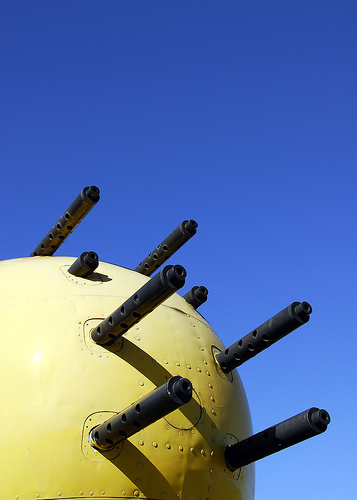rifle: (85, 361, 196, 461), (208, 289, 319, 389), (222, 383, 333, 483), (94, 257, 185, 349), (26, 167, 102, 249), (121, 183, 197, 265)
